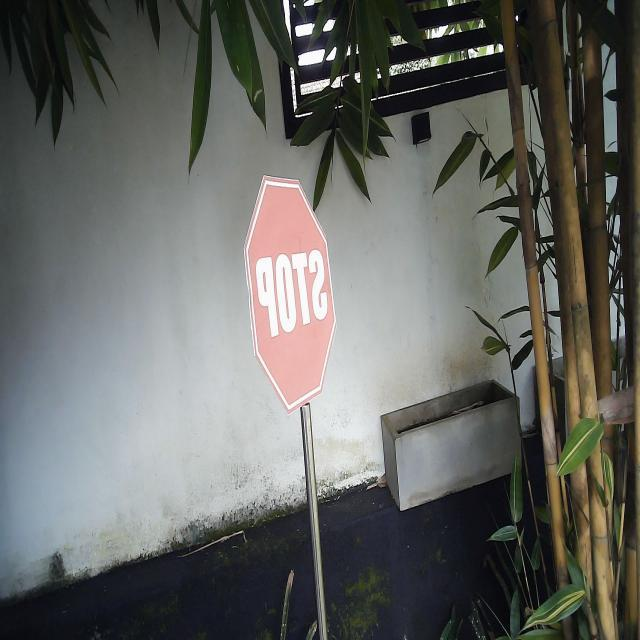stop: (242, 170, 338, 417)
